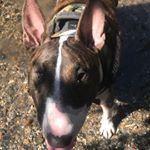puppy: (17, 1, 127, 149)
